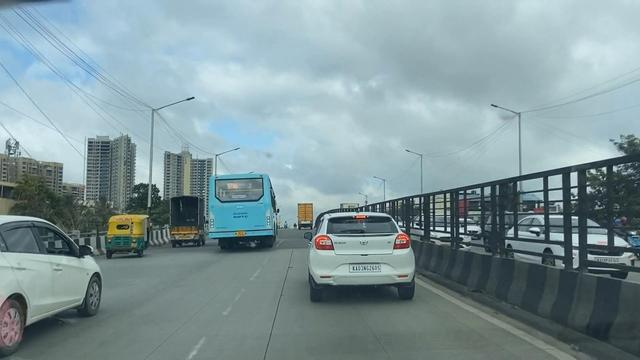HMV: (207, 165, 284, 253), (167, 186, 211, 251), (295, 199, 314, 234)
LMV: (0, 196, 120, 352), (287, 205, 422, 304), (106, 210, 156, 258)
